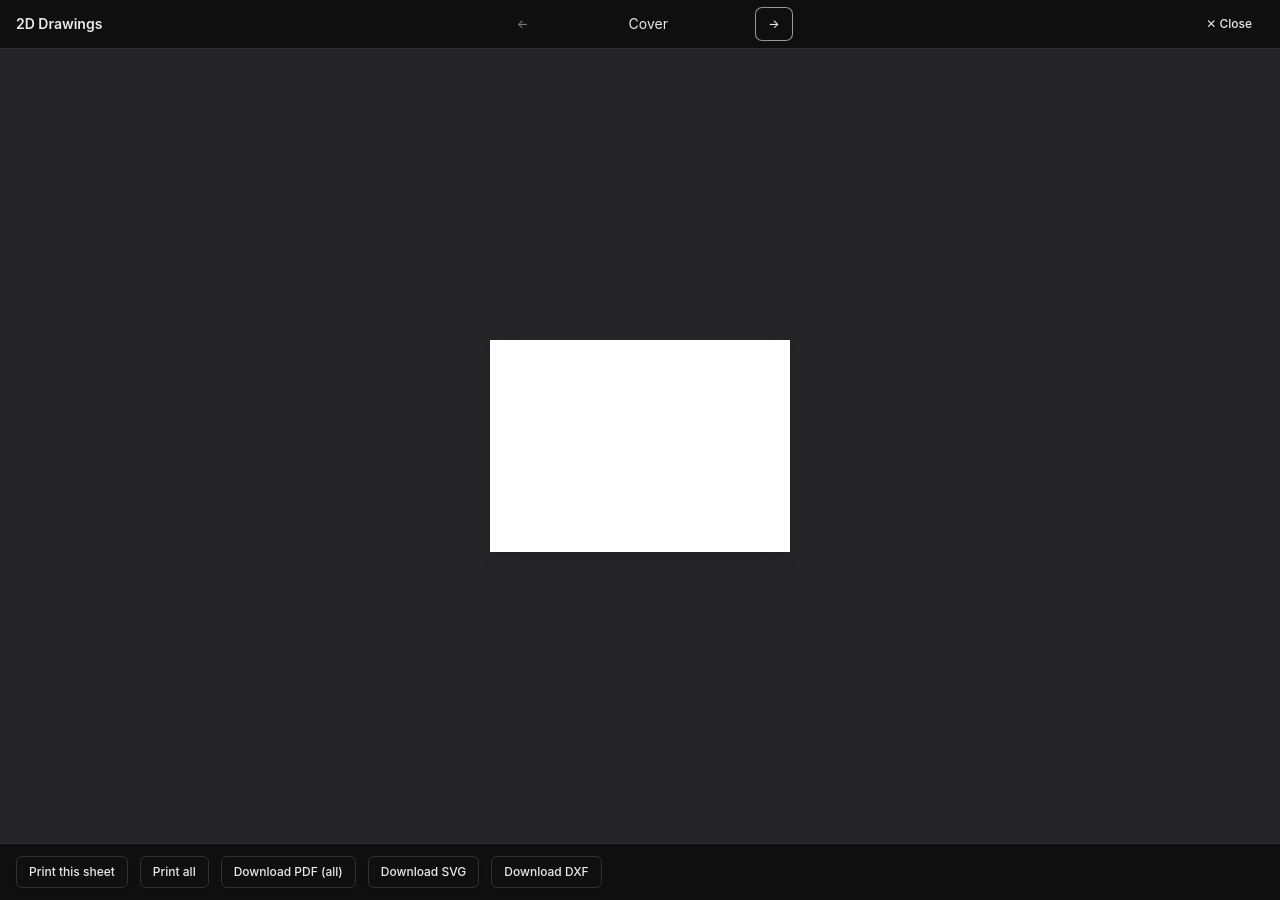
Test case: DrawingViewer › Next button advances to next sheet
Click the button "→". click: coordinates (774, 24)
box: [756,8,792,40]
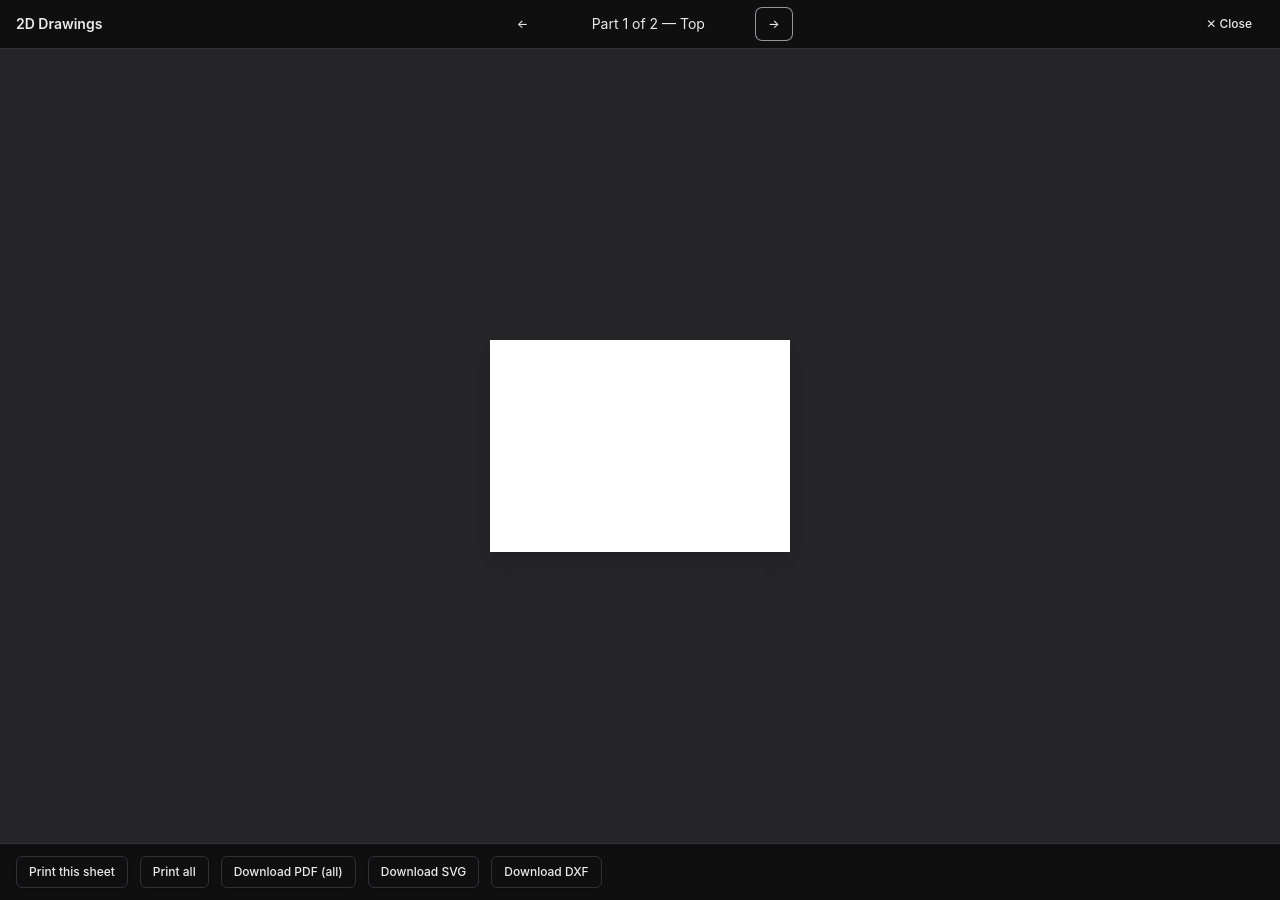
Result: the text "Part 1 of 2 — Top" is shown at [592,15,705,32]
